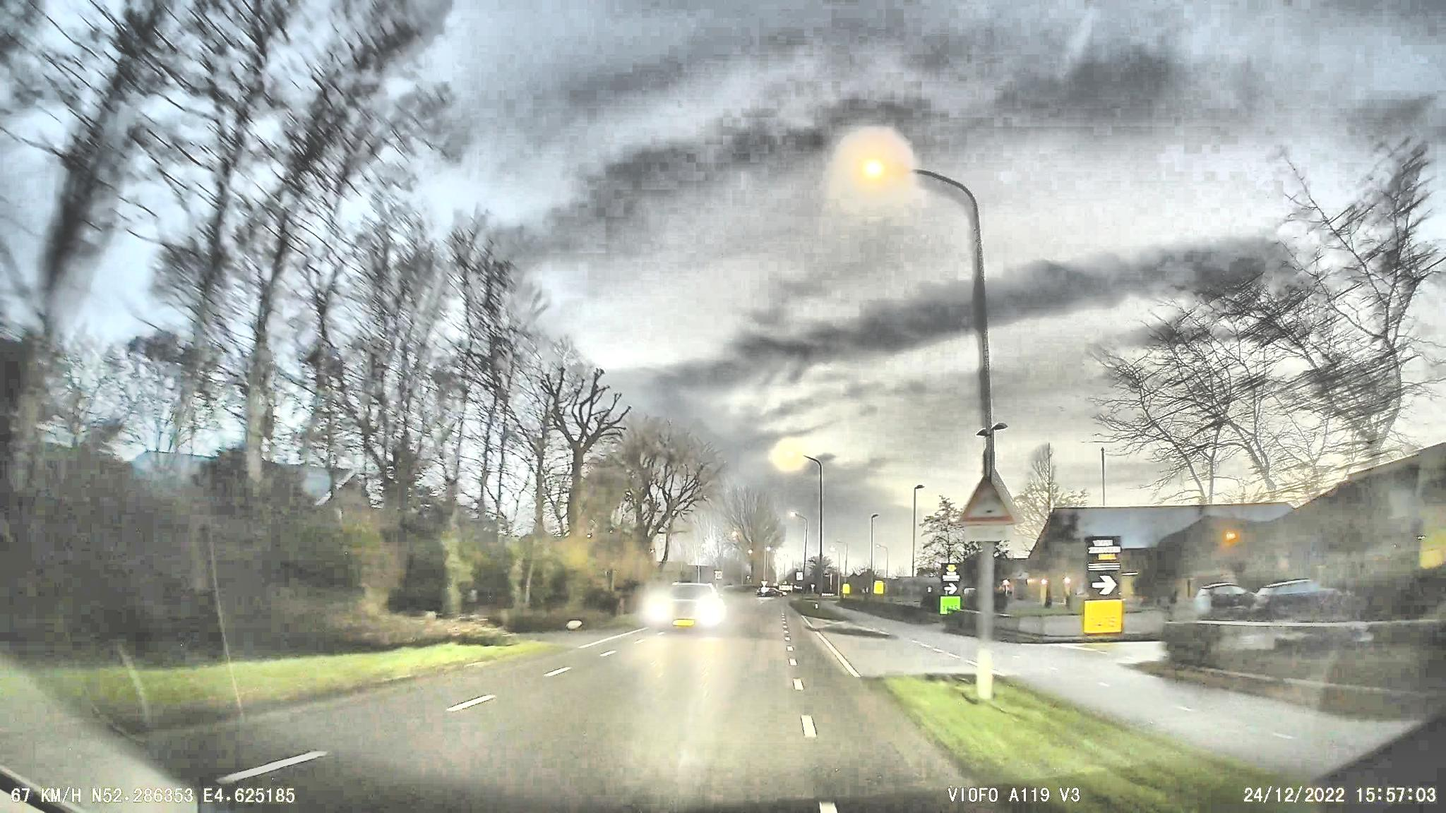Roads: (0, 614, 1027, 813)
